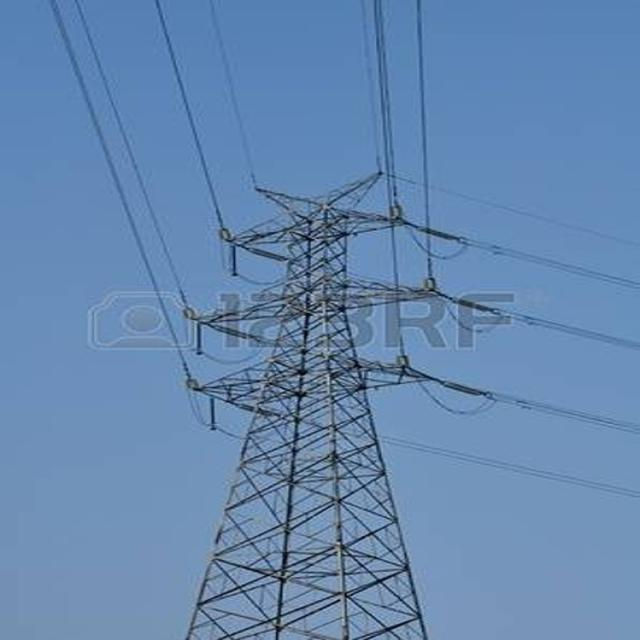non-critical vegetation: (174, 168, 458, 636)
